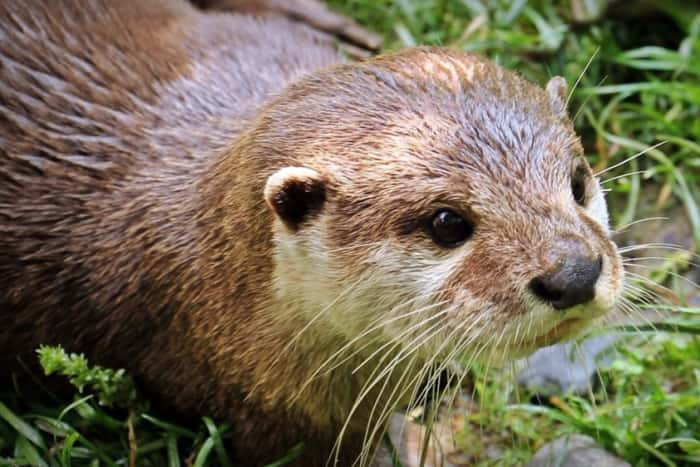otter: (11, 18, 632, 467)
